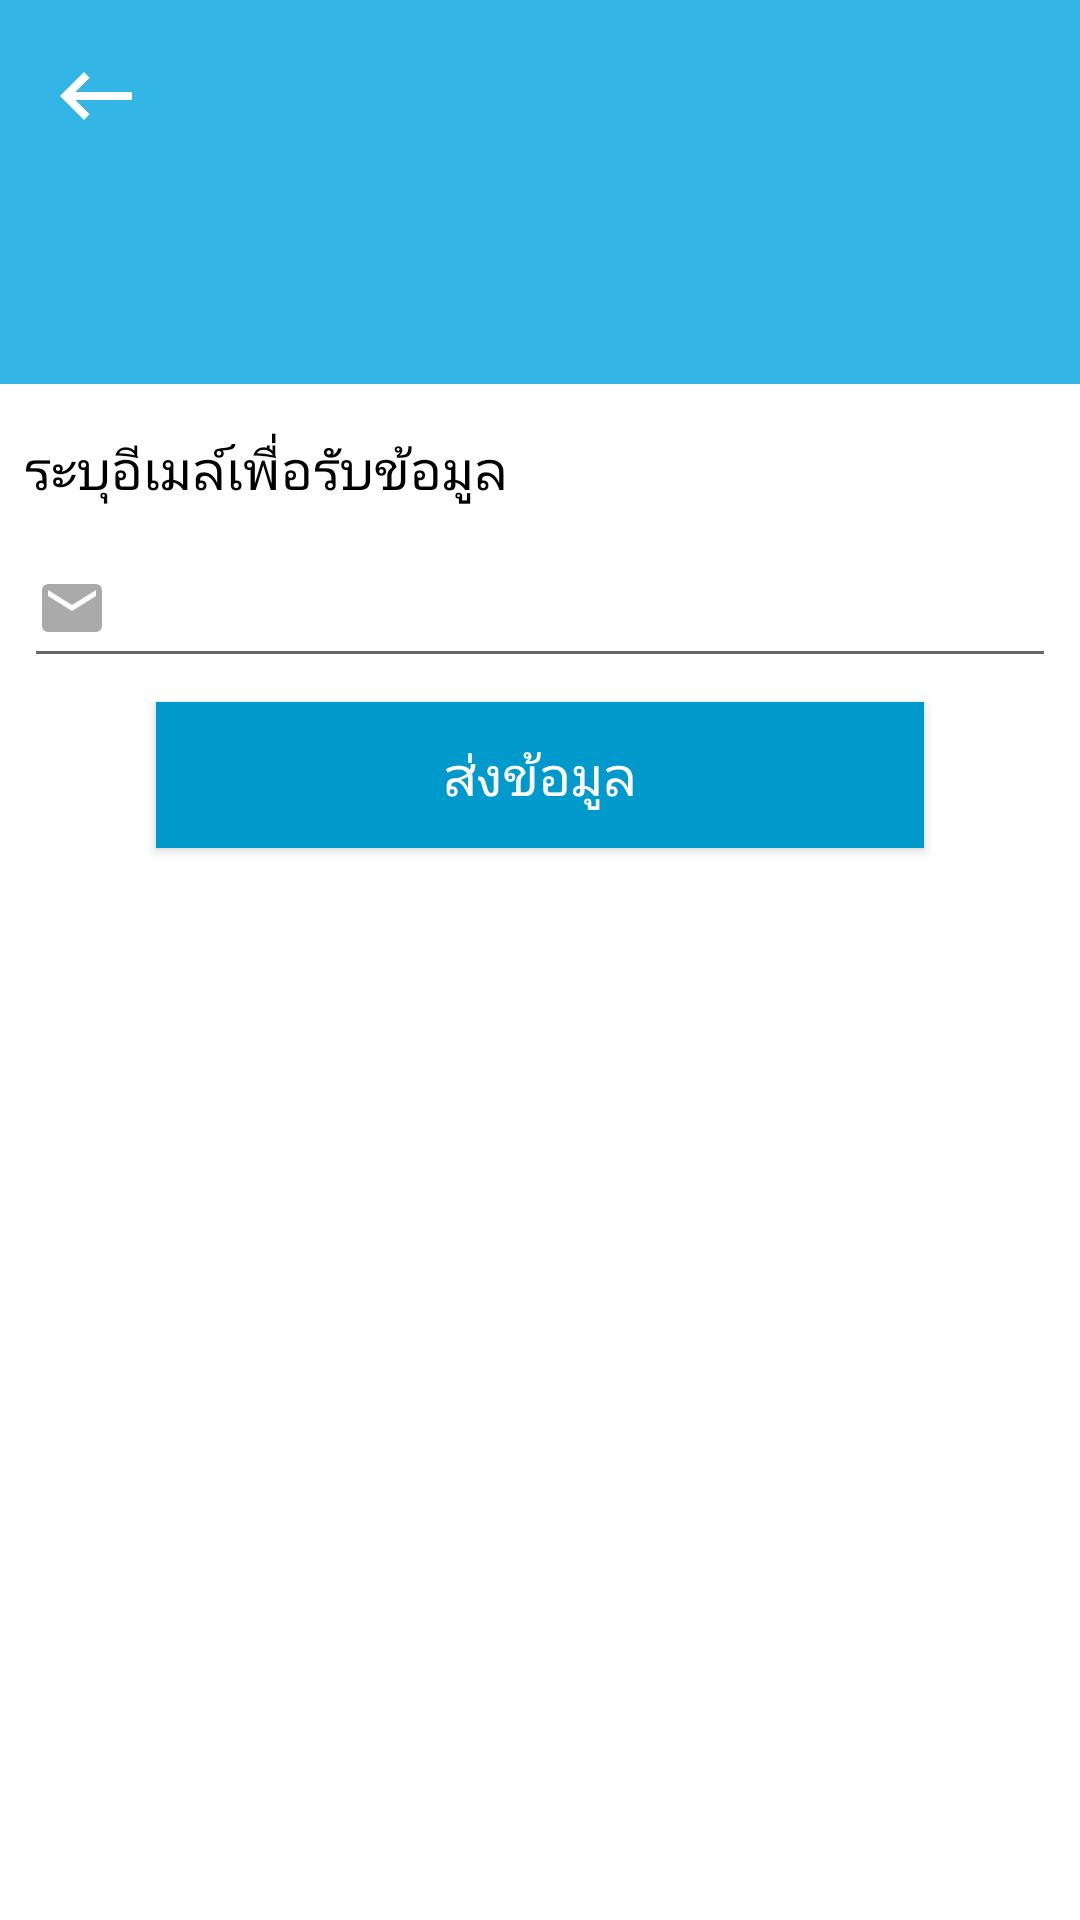

Screen size 1080px×1920px. Icon name, then its center in pixels as [x,y]:
back: [96,96]
